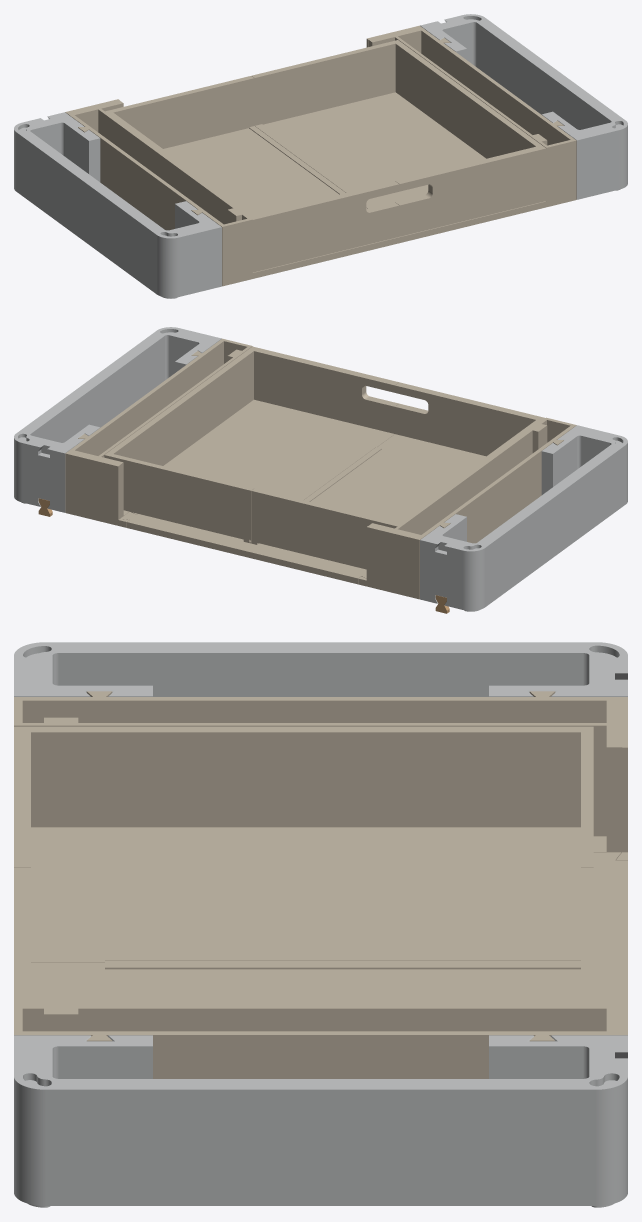
Rendered from layer-assembly.glb.
3 views of the same model, one above another, from view 1: azimuth 30°, elevation 25°; view 2: azimuth 150°, elevation 25°; view 3: azimuth 270°, elevation 25° (orthographic). The views are drawn at different scales.
Visible parts, largest first — view 1: C08, C07, C09, C10, C03, C04, C05; view 2: C08, C07, C09, C10, C03, C04, C06; view 3: C07, C10, C04, C09, C08, C03, C06.
Part boxes in pixels (x1,y1,x2,y2): C08: [252, 40, 546, 236]; C07: [105, 76, 399, 272]; C09: [14, 112, 221, 298]; C10: [420, 14, 627, 199]; C03: [65, 99, 283, 286]; C04: [366, 25, 576, 214]; C05: [283, 209, 514, 271]; C08: [104, 346, 398, 543]; C07: [251, 382, 545, 569]; C09: [420, 425, 627, 611]; C10: [14, 327, 221, 512]; C03: [358, 417, 576, 599]; C04: [65, 338, 252, 527]; C06: [120, 512, 366, 584]; C07: [14, 726, 593, 962]; C10: [14, 1035, 627, 1207]; C04: [14, 984, 627, 1078]; C09: [14, 642, 627, 696]; C08: [14, 867, 593, 1005]; C03: [14, 691, 627, 860]; C06: [593, 852, 627, 1005].
Bounding box in the file's own units: 0.495 × 0.068 × 0.287.
